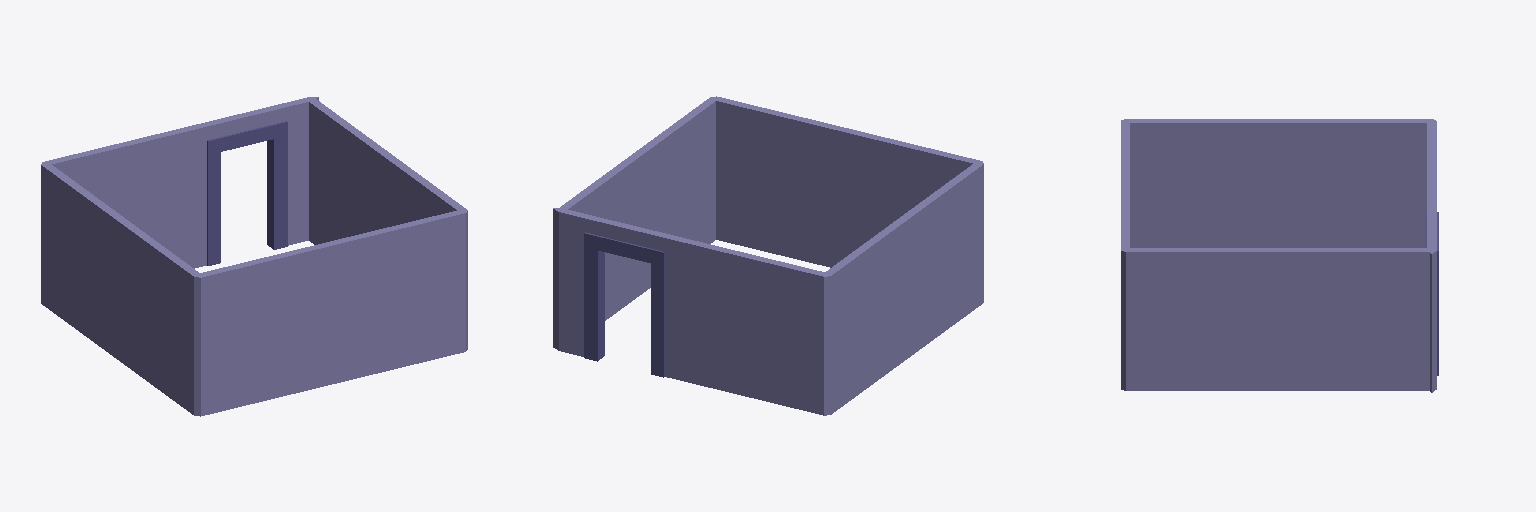
File: Section1_3.obj
3 renders of one model, left to right at view 1: azimuth 30°, elevation 25°; view 2: azimuth 150°, elevation 25°; view 3: azimuth 270°, elevation 25°, orthographic.
Parts seen in each view (by area): view 1: mergedBlocks; view 2: mergedBlocks; view 3: mergedBlocks.
Boxes of the visible parts, x1=… form: mergedBlocks: x1=41, y1=97, x2=467, y2=416; mergedBlocks: x1=553, y1=96, x2=983, y2=415; mergedBlocks: x1=1121, y1=119, x2=1438, y2=392.
Bounding box in the file's own units: 4.19 × 2 × 4.16.